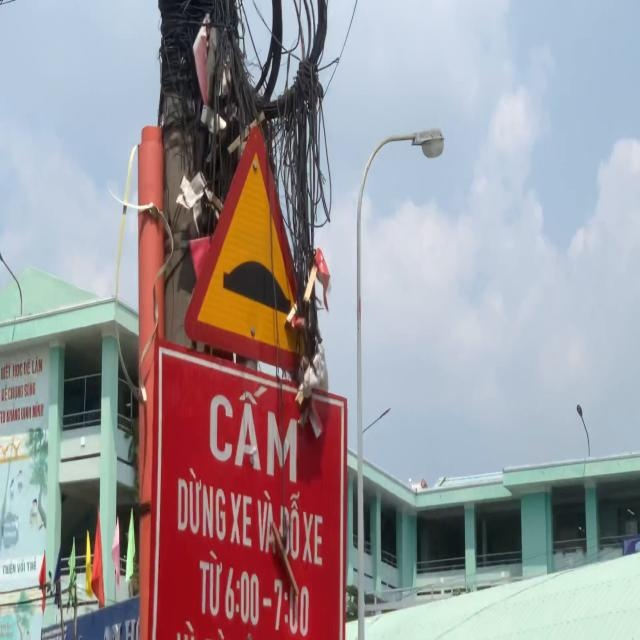bien_nguy_hiem: (182, 113, 332, 390)
